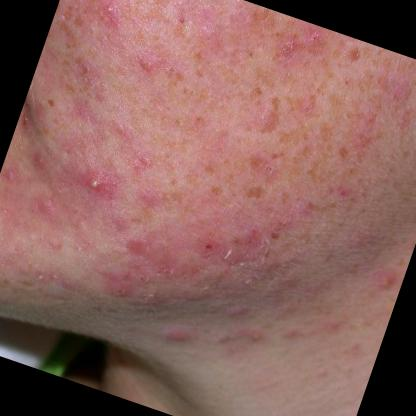Acne: (199, 215, 254, 282), (67, 163, 110, 215)
